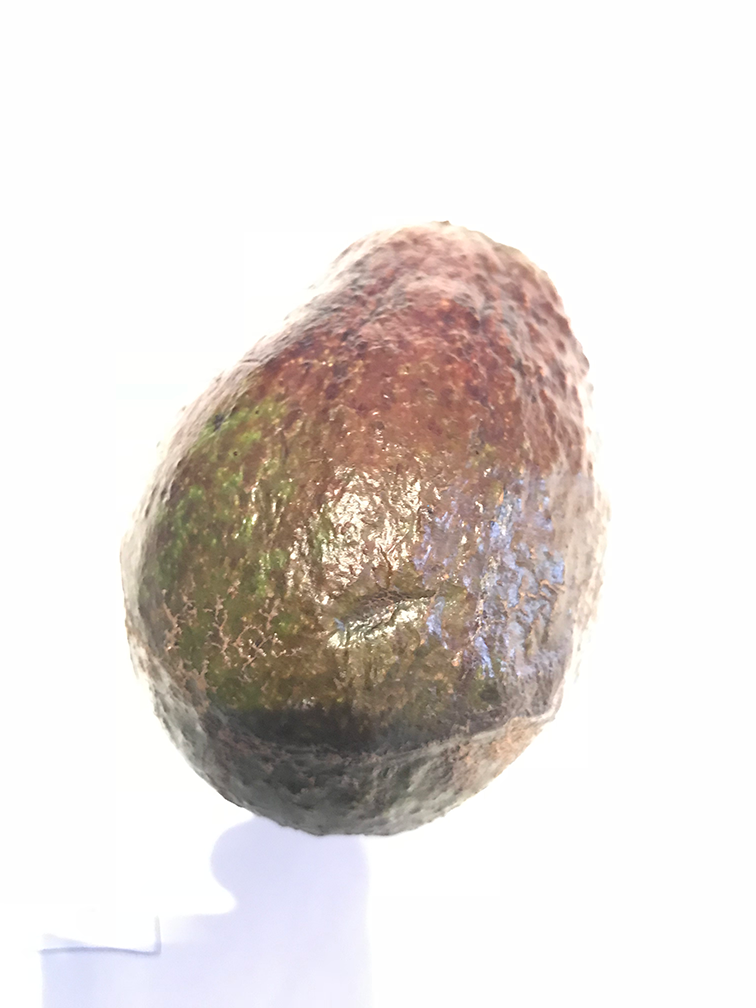avocado: (115, 194, 645, 846)
